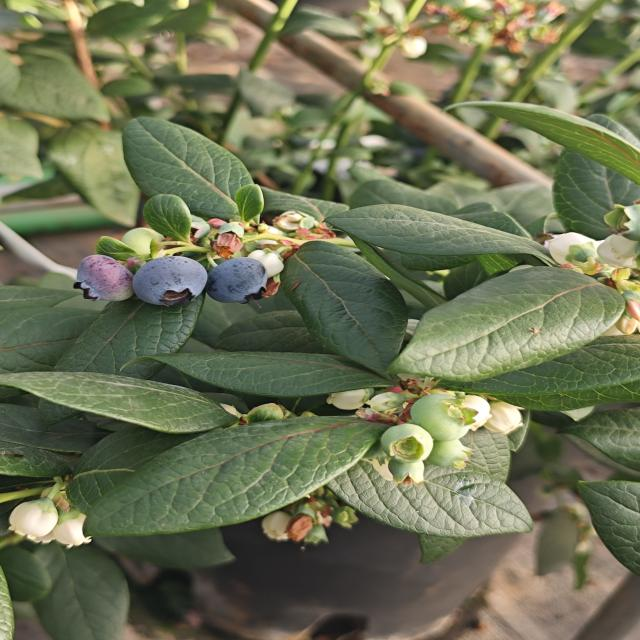ripe: (130, 254, 210, 309), (71, 253, 135, 305), (204, 256, 270, 306)
